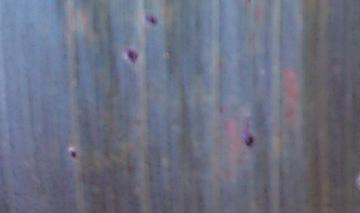tarspot: (241, 133, 256, 148), (126, 47, 139, 64), (147, 15, 158, 27), (68, 148, 78, 159)
